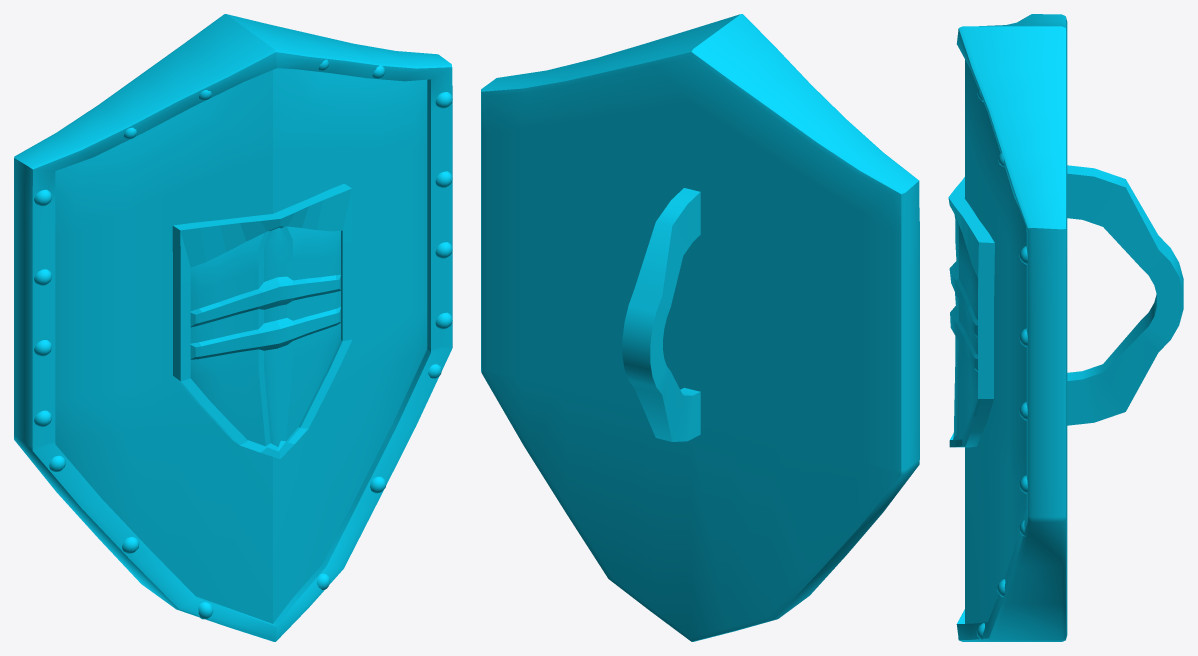
File: HEaterMain.fbx
3 renders of one model, left to right at view 1: azimuth 30°, elevation 25°; view 2: azimuth 150°, elevation 25°; view 3: azimuth 270°, elevation 25°, orthographic. The views are drawn at different scales.
Visible parts, largest first — view 1: HEaterSHield_low, Signet_low; view 2: HEaterSHield_low, Strap_low; view 3: HEaterSHield_low, Strap_low, Signet_low.
Boxes of the visible parts, box(x1,y1,x2,y2) form: HEaterSHield_low: box(14, 14, 452, 641); Signet_low: box(172, 183, 352, 458); HEaterSHield_low: box(481, 14, 919, 641); Strap_low: box(622, 188, 700, 441); HEaterSHield_low: box(956, 14, 1067, 641); Strap_low: box(1067, 165, 1183, 425); Signet_low: box(948, 177, 994, 447).
Bounding box in the file's own units: 1243 × 1660 × 575.
